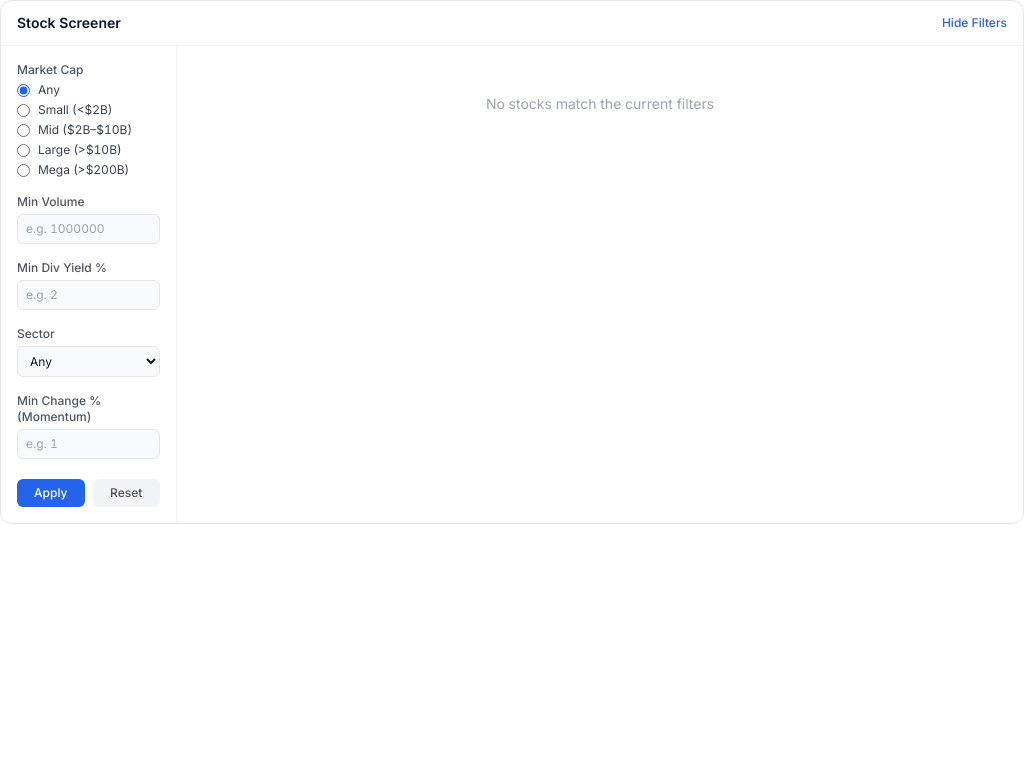
Test: StockScreener › has Hide Filters / Show Filters toggle button
Click the button "Hide Filters" at (974, 23), box [942,15,1007,31]
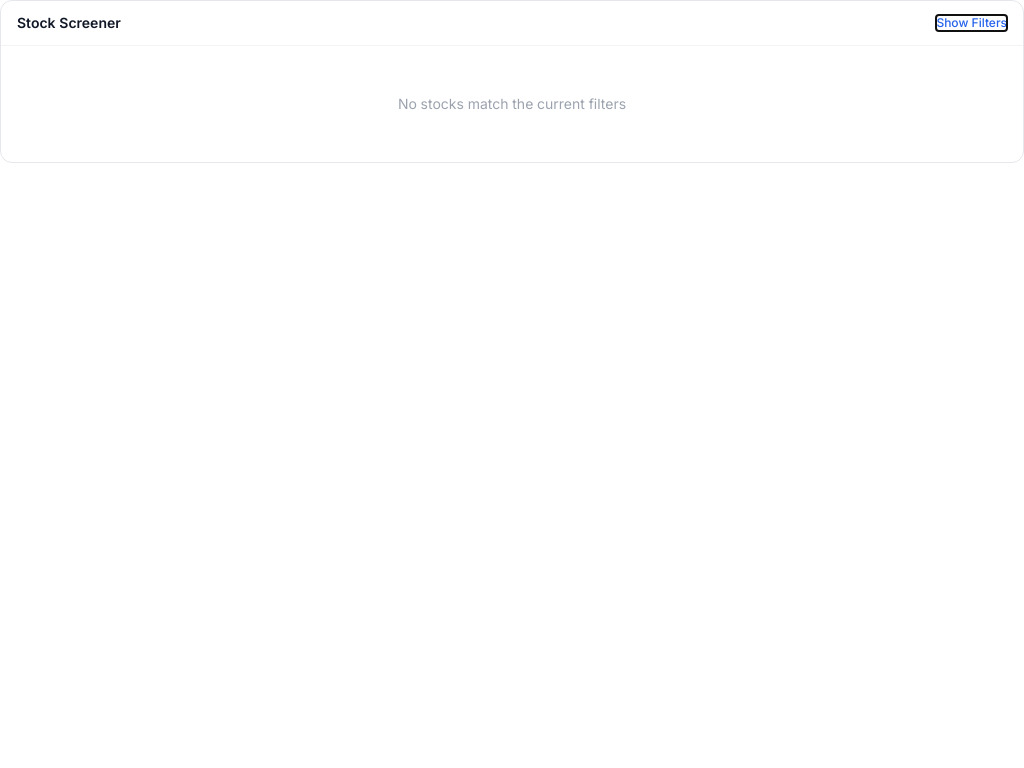
Check: the button "Show Filters" is shown, box [936,15,1007,31]
